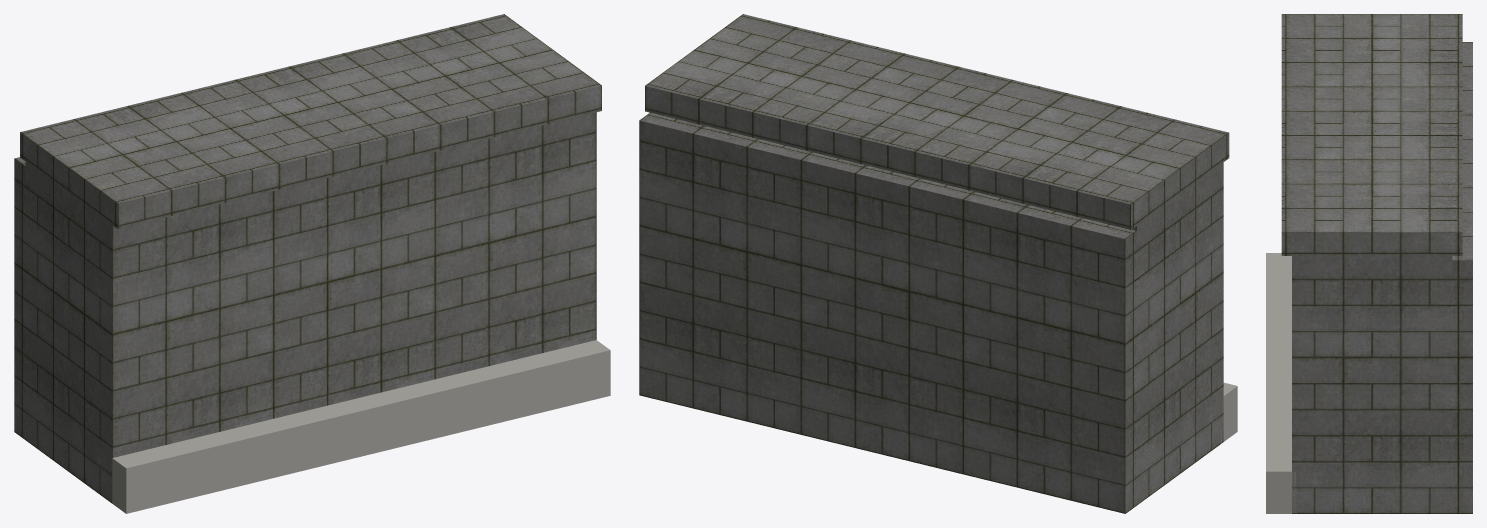
Rendered from env_canal_wall.glb.
The picture shows the model from 3 angles, left to right: view 1: azimuth 30°, elevation 25°; view 2: azimuth 150°, elevation 25°; view 3: azimuth 270°, elevation 25°; orthographic projection. The views are drawn at different scales.
Parts seen in each view (by area): view 1: env_canal_wall; view 2: env_canal_wall; view 3: env_canal_wall.
Part boxes in pixels (box(x1,y1,x2,y2)): env_canal_wall: box(14, 14, 610, 513); env_canal_wall: box(639, 14, 1237, 513); env_canal_wall: box(1266, 14, 1472, 513).
Bounding box in the file's own units: 2 × 1.2 × 0.8.
3 materials, 1 textured.
